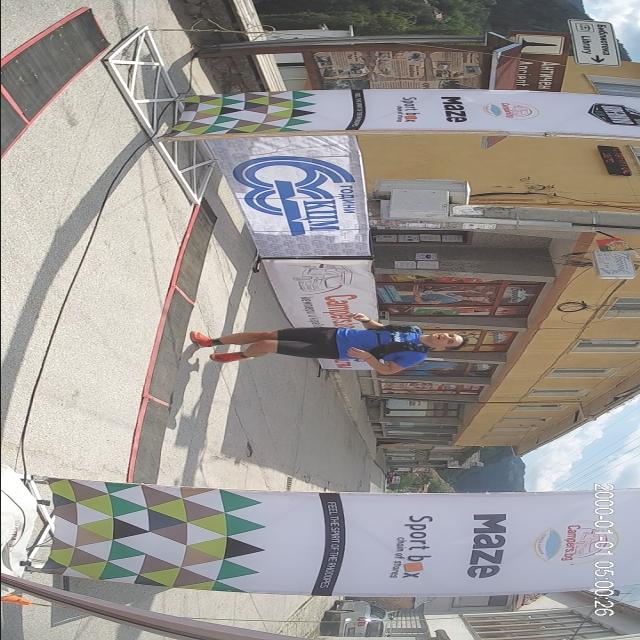runner: (180, 300, 480, 387)
